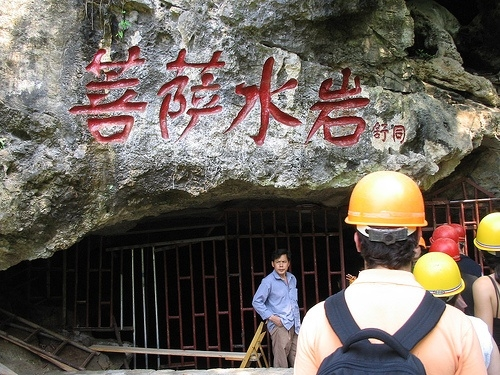People: (341, 171, 486, 374), (253, 249, 300, 366), (294, 302, 344, 374)
helmet: (345, 172, 426, 225), (413, 252, 463, 296), (476, 212, 499, 252), (429, 238, 459, 260)
